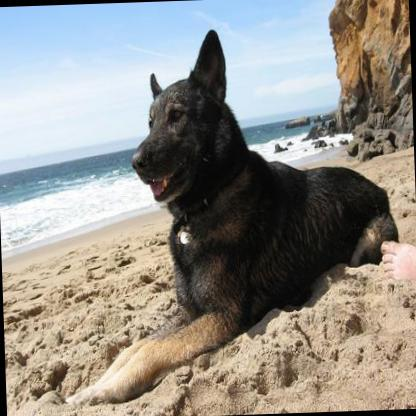German_shepherd: (50, 20, 404, 409)
